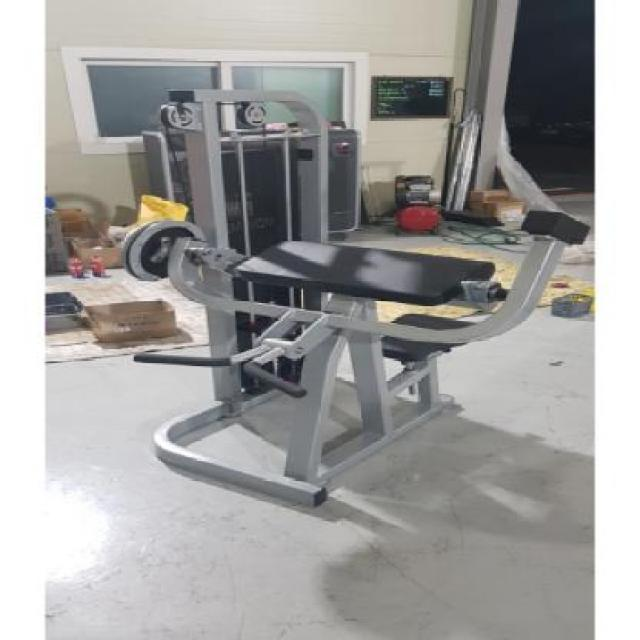arm curl machine: (118, 206, 590, 509)
